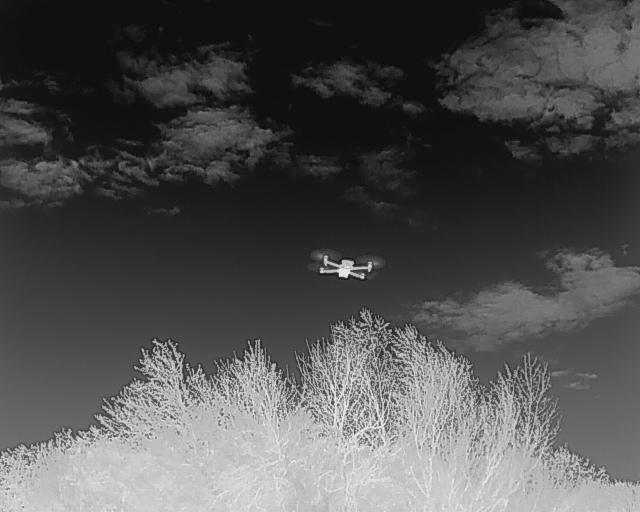drone: (305, 245, 392, 287)
